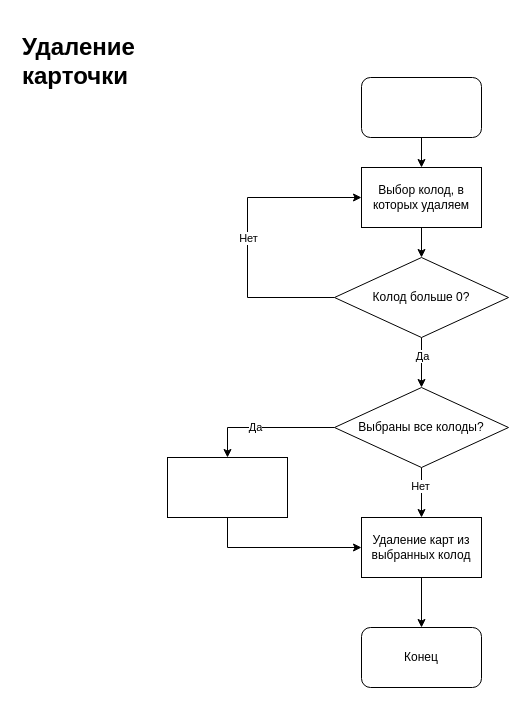
The diagram is 526 pixels wide and 705 high, and some of its shapes have lost their labels. Here are the shapes that lost their labels. From the top down, the box of each, then its label:
(360, 76, 482, 138): Начало
(166, 456, 288, 518): Удаление карты
